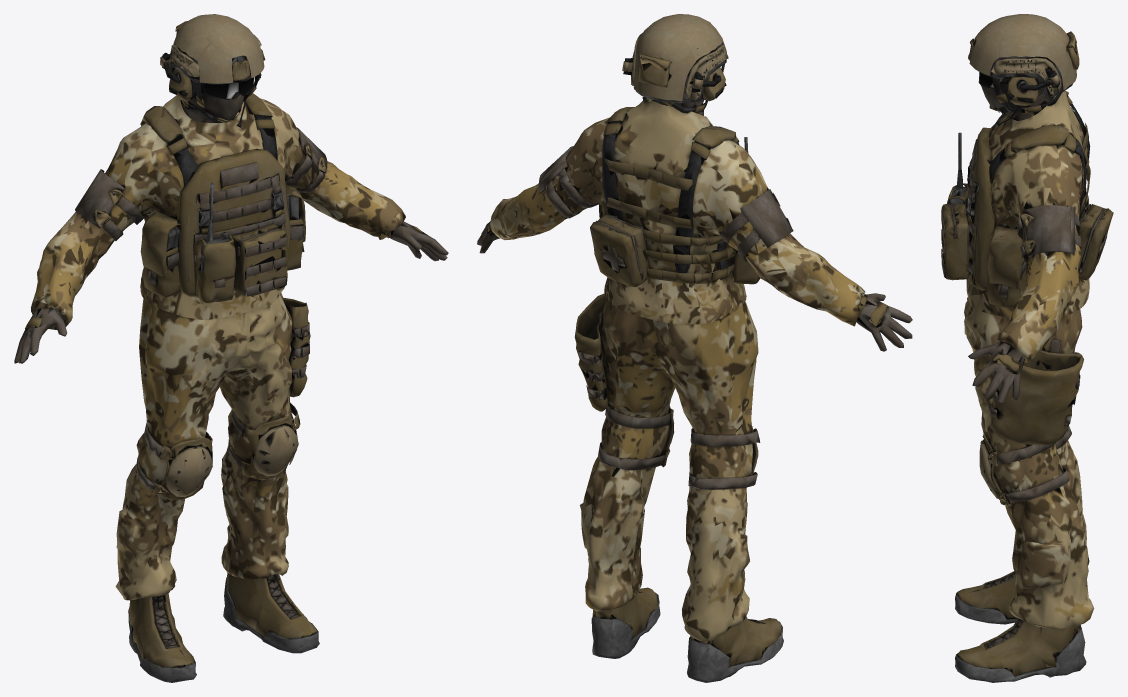
File: sand_soldier_outdated.obj
3 views of the same model, side by side, from view 1: azimuth 30°, elevation 25°; view 2: azimuth 150°, elevation 25°; view 3: azimuth 270°, elevation 25° (orthographic).
Size of the model in its own units: 1.38 by 1.93 by 0.4804.
2 materials, 1 textured.
